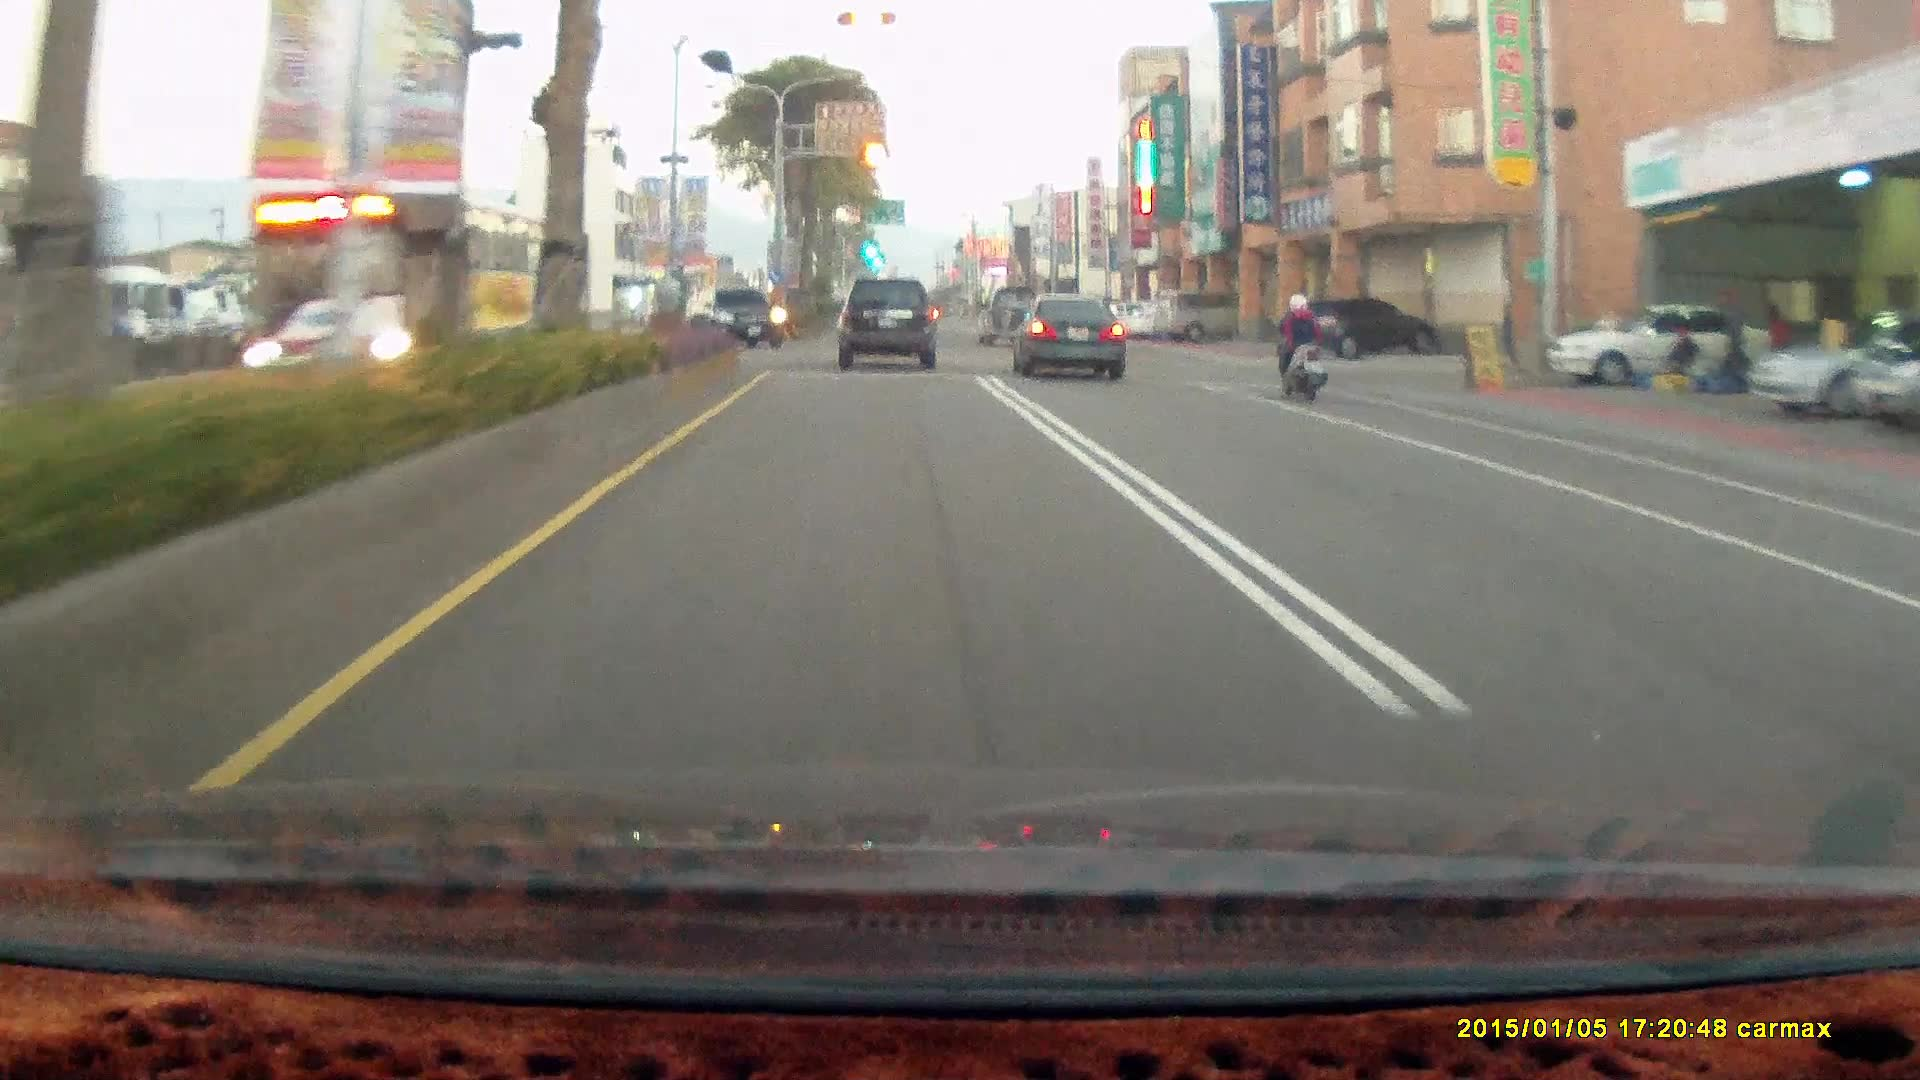pedestrian: (1723, 291, 1752, 396), (1766, 303, 1796, 392), (1669, 327, 1700, 393)
rider: (1260, 281, 1339, 414), (1269, 294, 1327, 402)
vehicle: (220, 181, 598, 389), (248, 189, 592, 395), (1541, 303, 1774, 386), (1748, 313, 1920, 415), (1753, 310, 1908, 413), (1594, 303, 1792, 381), (1012, 297, 1132, 390), (1004, 293, 1124, 381), (1280, 299, 1436, 364), (1280, 297, 1435, 360), (837, 281, 942, 374), (836, 277, 935, 370), (1844, 321, 1920, 429), (696, 285, 785, 353), (695, 285, 785, 348), (1152, 291, 1260, 343), (1155, 291, 1244, 346), (975, 287, 1041, 348)
